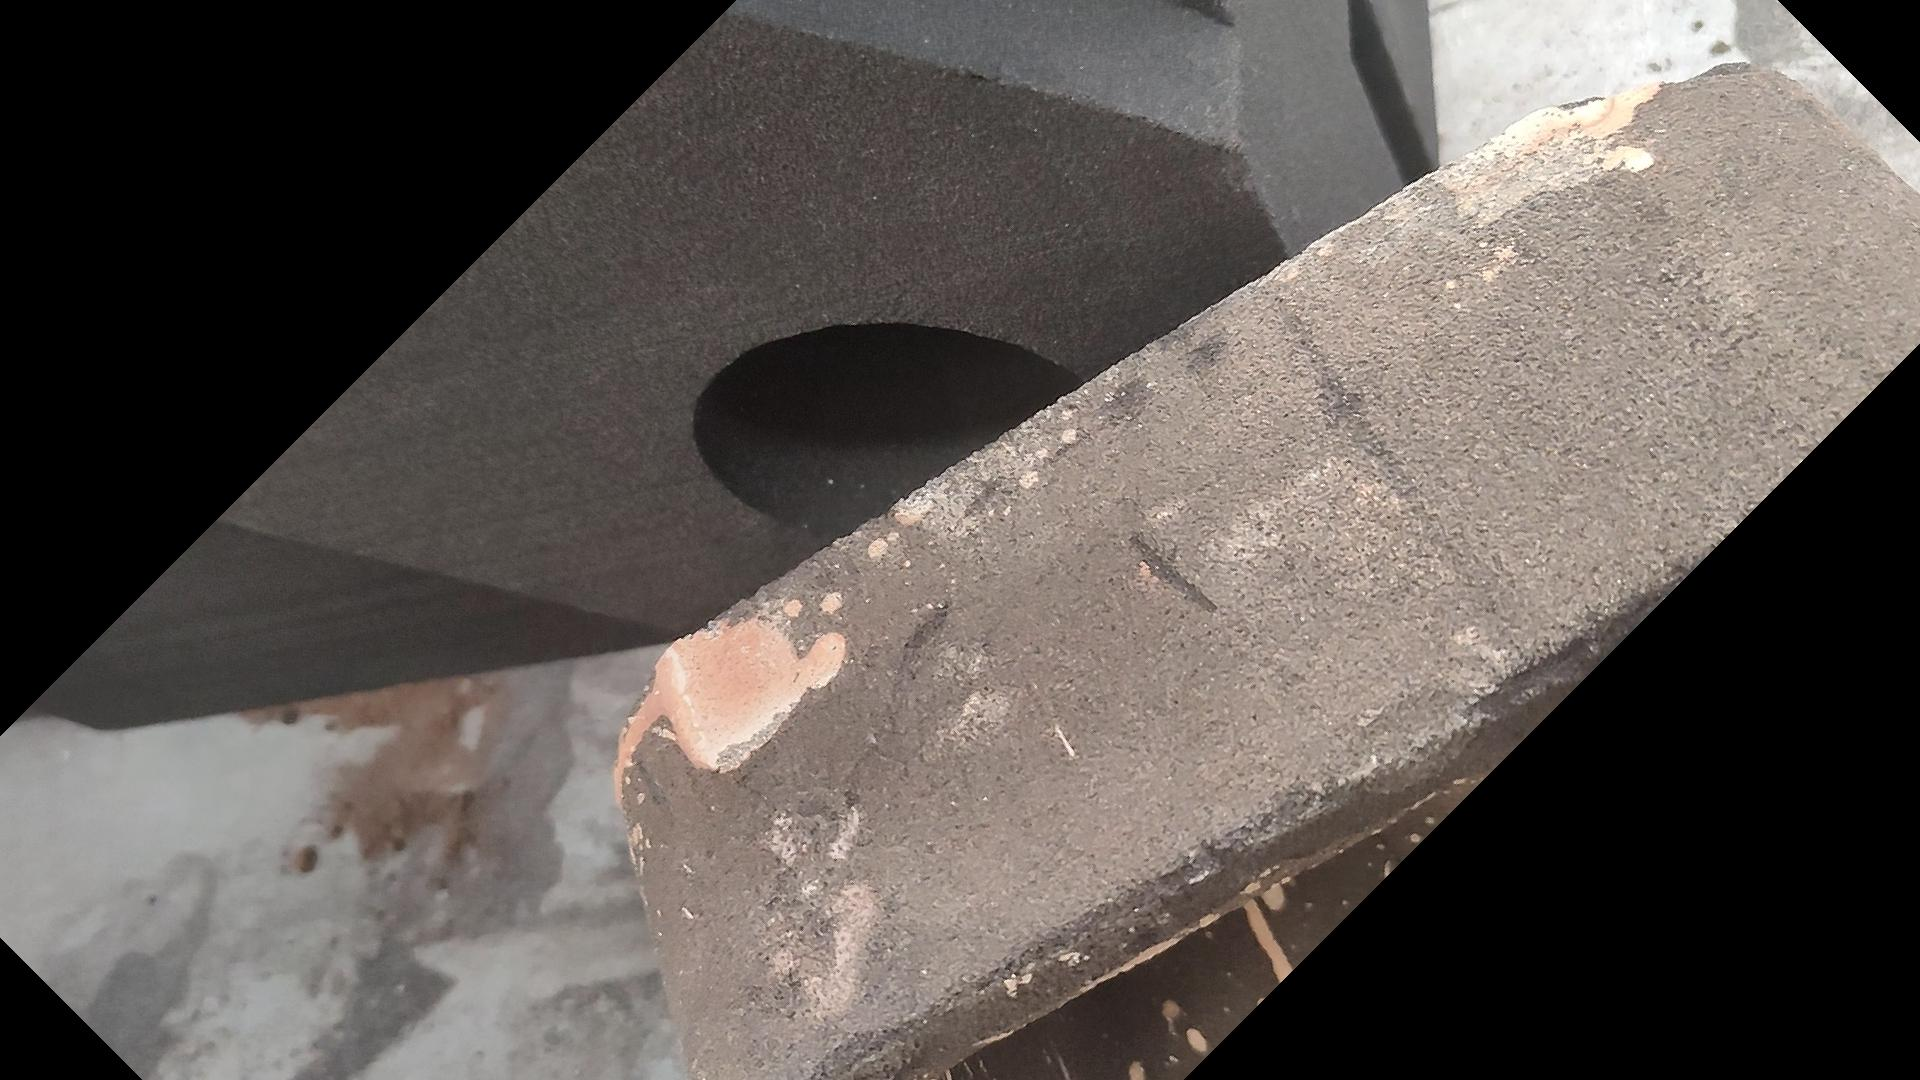pouring hole: (688, 322, 1097, 545)
